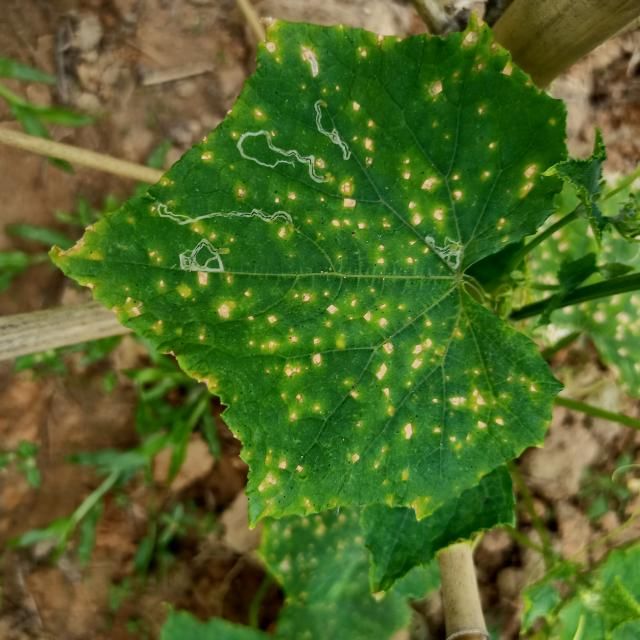disease_cucumber: (81, 265, 548, 516), (132, 20, 562, 278)
